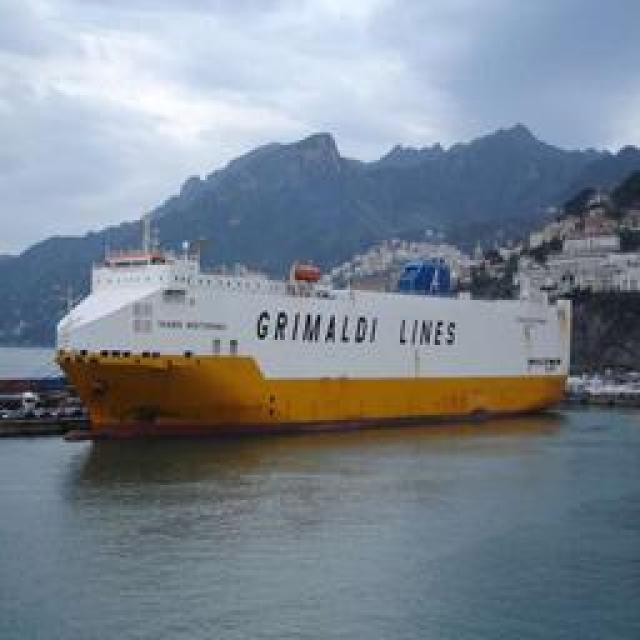ship2: (55, 222, 572, 440)
